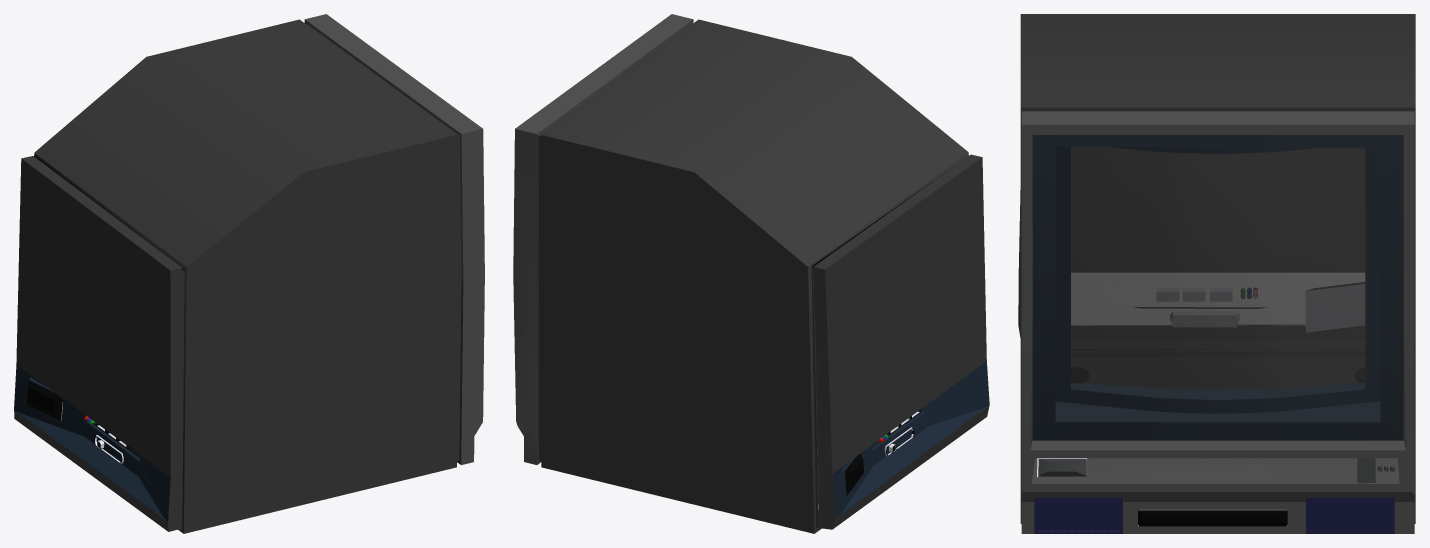
3 views of the same model, side by side, from view 1: azimuth 30°, elevation 25°; view 2: azimuth 150°, elevation 25°; view 3: azimuth 270°, elevation 25° (orthographic). The views are drawn at different scales.
Visible parts, largest first — view 1: TV; view 2: TV; view 3: TV.
Boxes of the visible parts, box(x1,y1,x2,y2) form: TV: box(14, 14, 484, 533); TV: box(513, 14, 989, 533); TV: box(1018, 14, 1415, 533).
Size of the model in its own units: 235 by 239 by 201.
